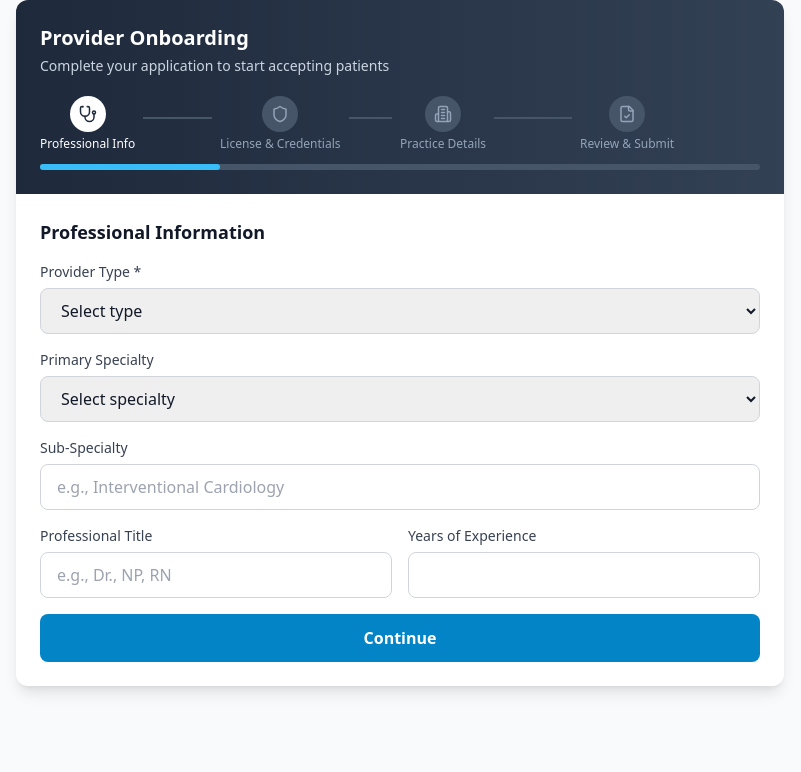
it: ProviderOnboardingWizard › shows validation error when provider type not selected
What coordinates should you click on to do the following:
click the button "Continue"
I would click on:
 (400, 638)
Its box is left=40, top=614, right=760, bottom=662.
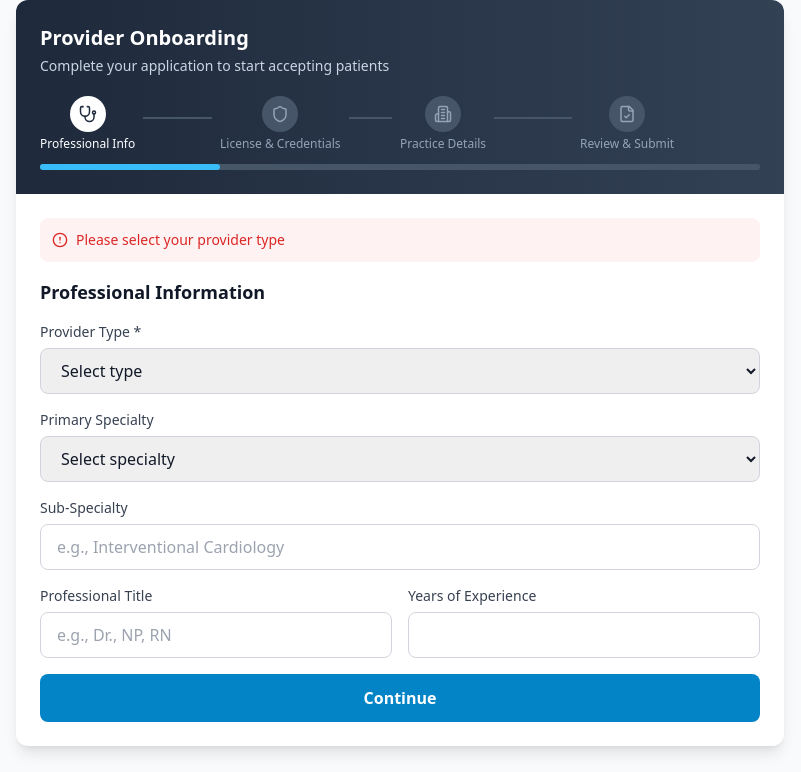
Expected: the text "Please select your provider type" is shown, left=40, top=218, right=760, bottom=262
